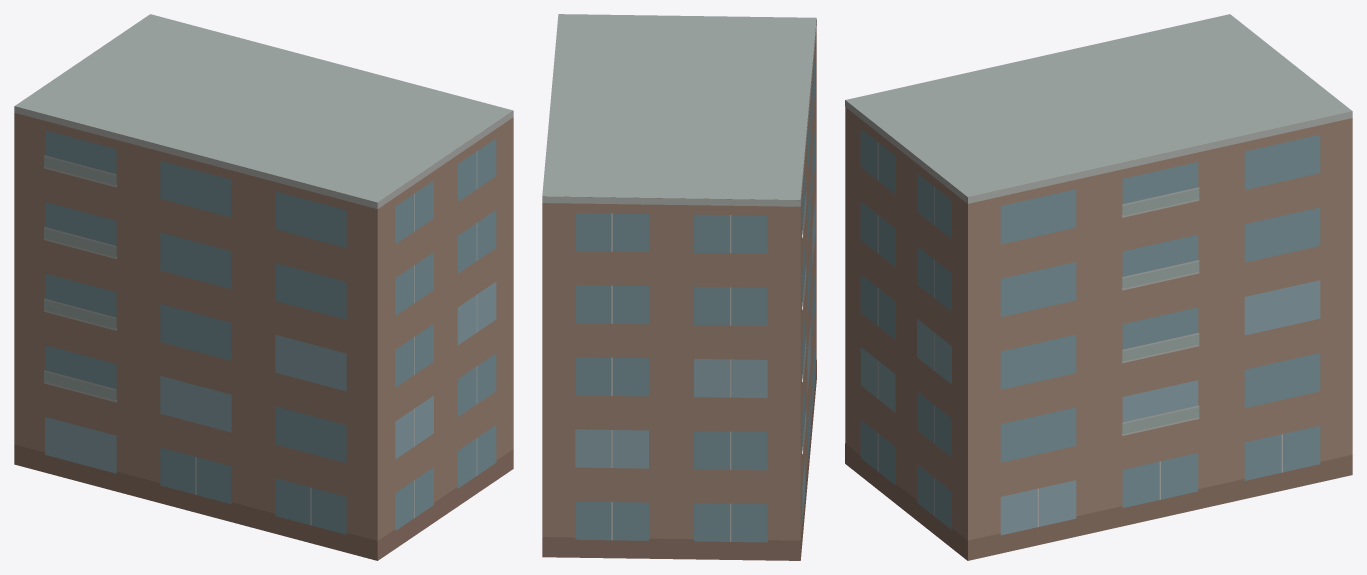
Rendered from survey-upis-32961975.glb.
3 views of the same model, side by side, from view 1: azimuth 30°, elevation 25°; view 2: azimuth 150°, elevation 25°; view 3: azimuth 270°, elevation 25° (orthographic).
Parts seen in each view (by area): view 1: survey-upis-32961975.tmp; view 2: survey-upis-32961975.tmp; view 3: survey-upis-32961975.tmp.
Part boxes in pixels (bbox=[...]): survey-upis-32961975.tmp: bbox=[14, 14, 513, 560]; survey-upis-32961975.tmp: bbox=[542, 14, 816, 560]; survey-upis-32961975.tmp: bbox=[845, 14, 1352, 560].
Bounding box in the file's own units: 14.27 × 13.2 × 16.7.
